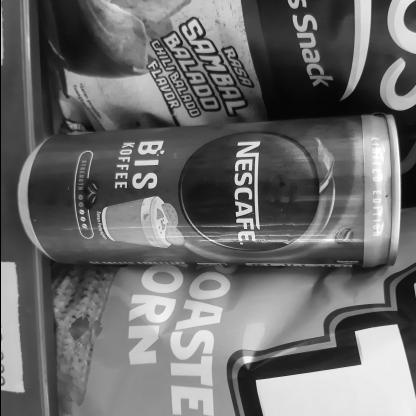alumunium_can: (11, 109, 399, 322)
